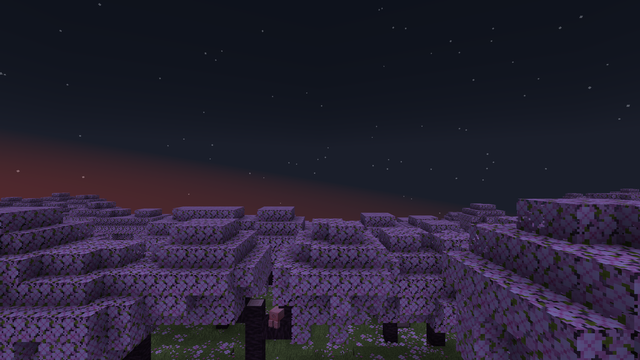cochons: (269, 306, 285, 327)
